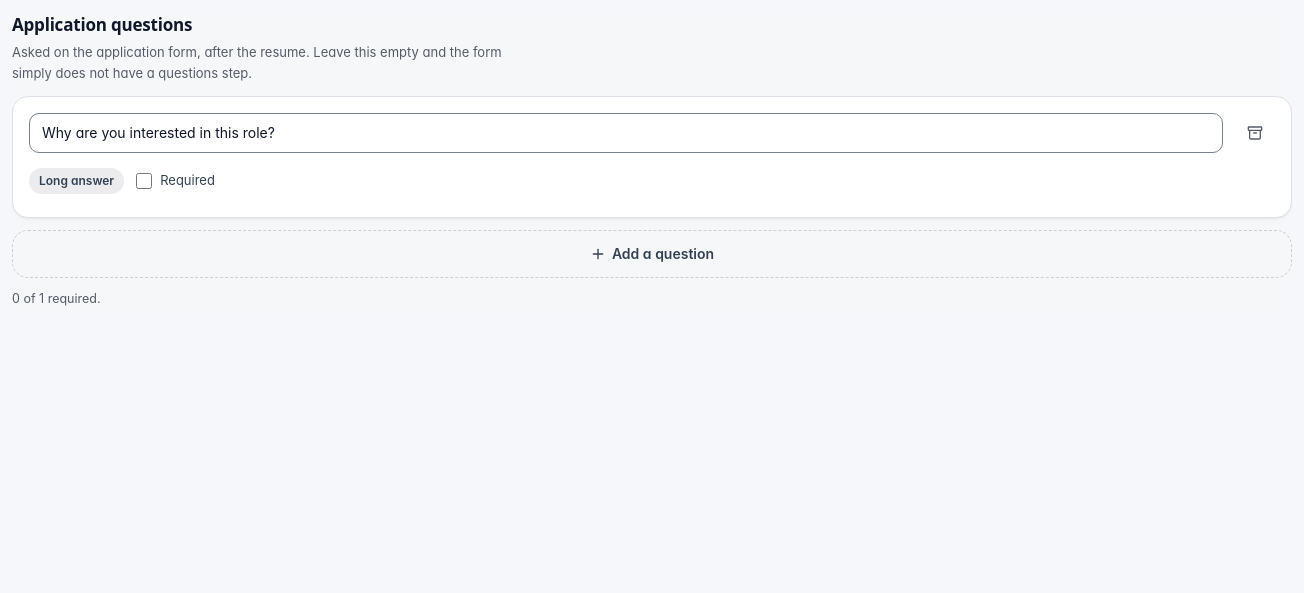
Test: QuestionEditor - authoring › will not add a question with no wording
Expected: the field named "Question 1" is shown, [29,113,1223,153]
Click the button "Add a question" at (652, 254), box [12,230,1292,278]
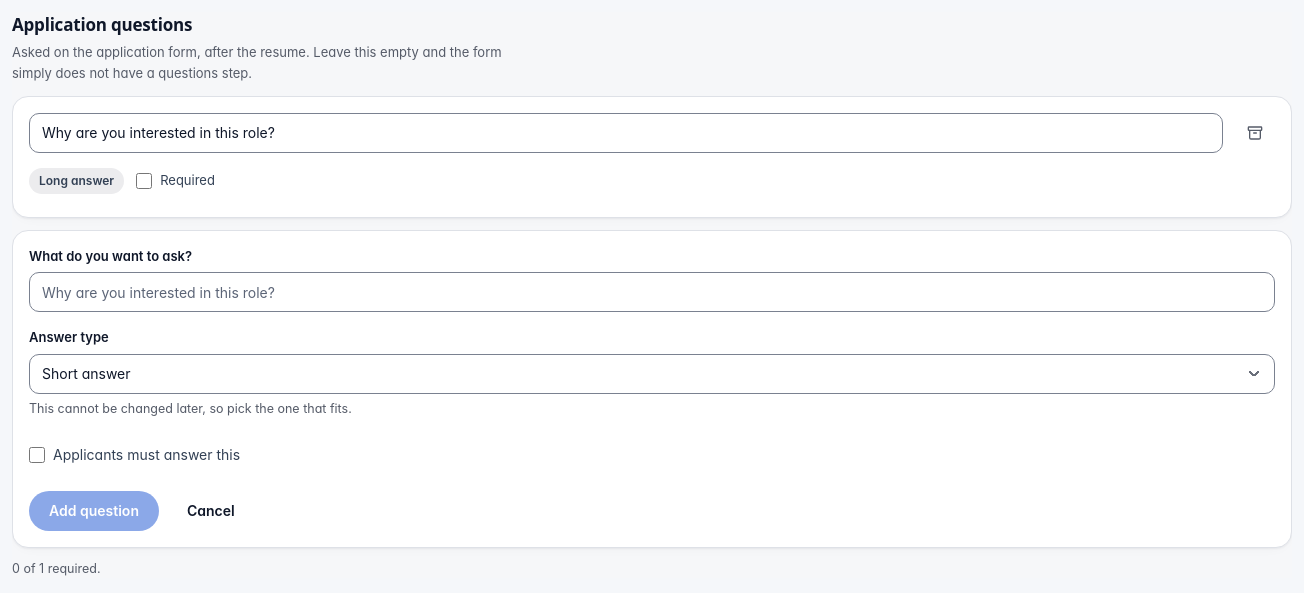
Expected: the button "Add question" is disabled, [29,490,159,530]
